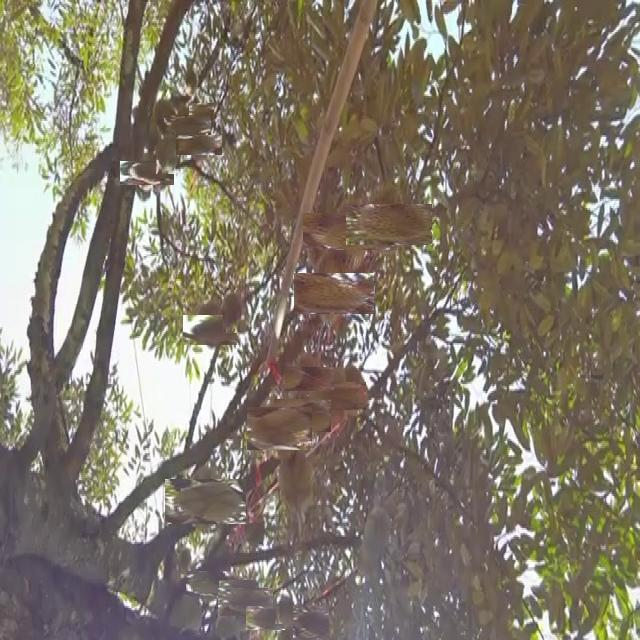durian: (317, 199, 383, 265), (357, 193, 421, 257), (174, 470, 237, 533), (303, 263, 364, 324), (275, 450, 320, 524), (252, 401, 307, 456), (280, 393, 326, 438), (314, 374, 358, 418), (189, 309, 232, 351), (224, 580, 266, 622), (128, 153, 167, 193), (343, 362, 367, 421), (291, 361, 328, 398), (190, 566, 226, 602), (293, 604, 328, 639), (182, 128, 216, 161), (171, 108, 203, 140), (221, 577, 253, 609), (250, 602, 281, 634), (156, 133, 180, 174), (154, 98, 178, 137), (224, 290, 244, 333), (275, 593, 297, 624), (190, 101, 213, 124)
